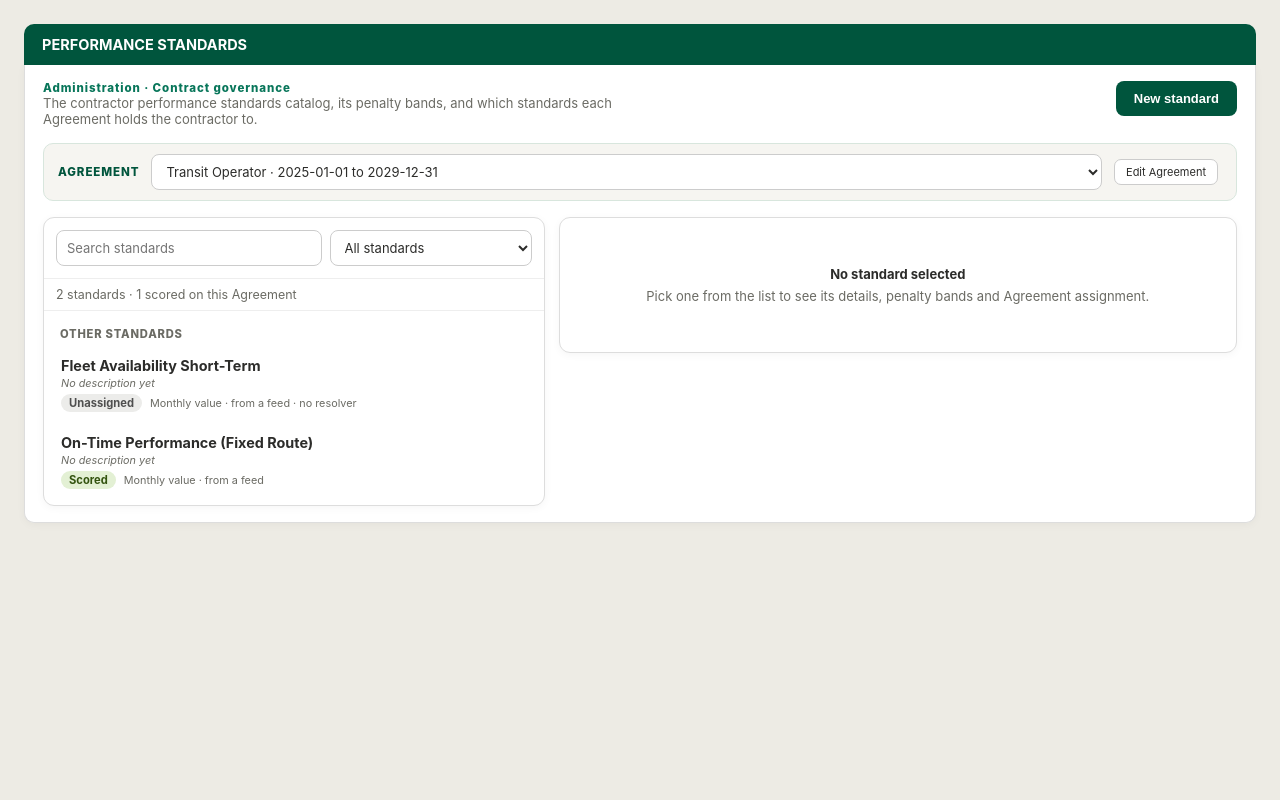
Test: Performance Standards administration › prefers the phrase somebody wrote over the figure
Step 1. Click the text "On-Time Performance (Fixed Route)" → coordinates (187, 442), box [61,434,313,451]
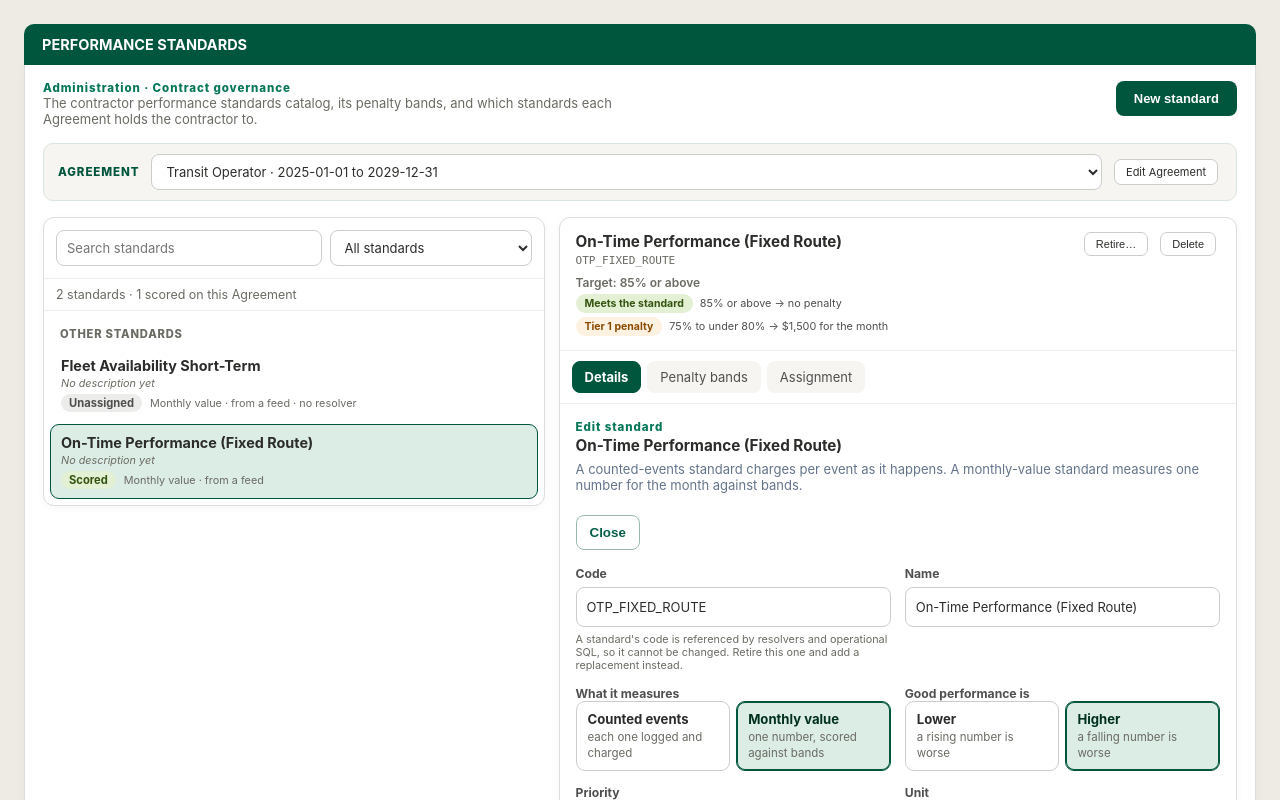
Now the text "Target: 85% or above" is shown, box [576,275,700,290]
